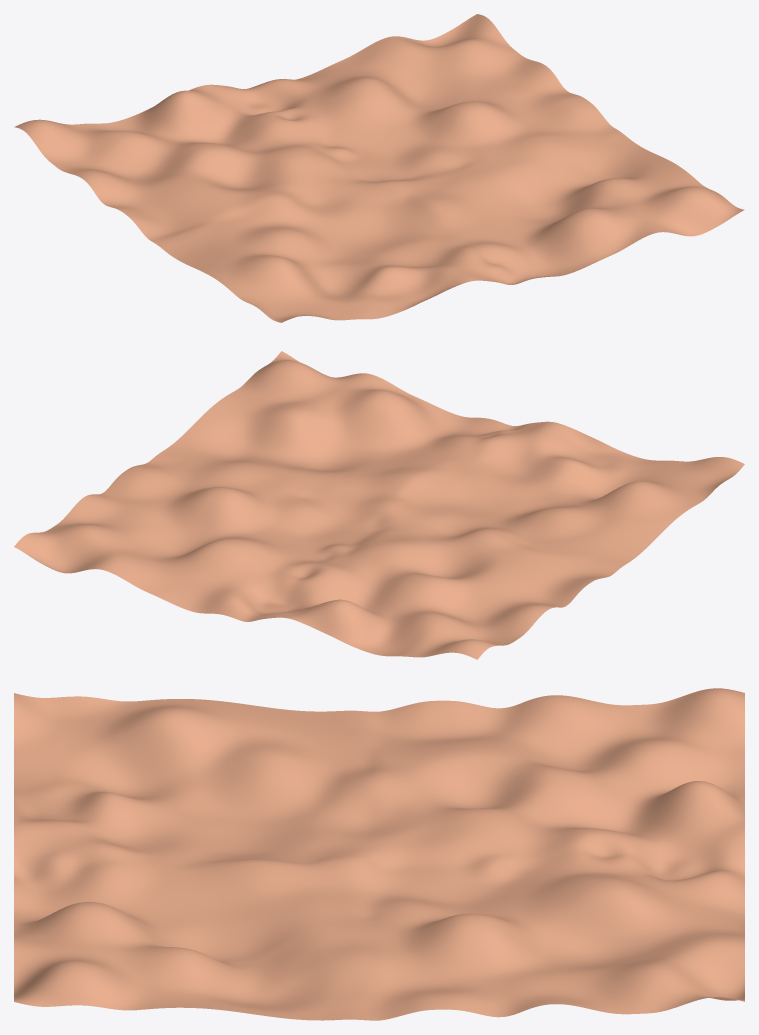
File: sand_plain.glb
3 views of the same model, one above another, from view 1: azimuth 30°, elevation 25°; view 2: azimuth 150°, elevation 25°; view 3: azimuth 270°, elevation 25° (orthographic). The views are drawn at different scales.
Parts seen in each view (by area): view 1: Sand; view 2: Sand; view 3: Sand.
Part boxes in pixels (x1,y1,x2,y2): Sand: [14, 14, 744, 322]; Sand: [14, 351, 744, 659]; Sand: [14, 688, 744, 1020].
Bounding box in the file's own units: 1000 × 78.25 × 1000.
